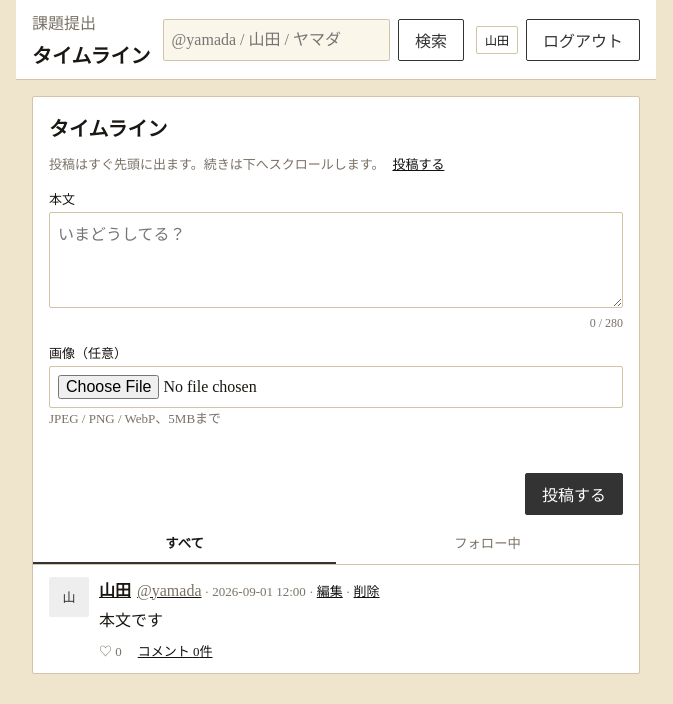
Test: TimelinePage › shows the following-tab empty state from the API
Expected: the text "本文です" is shown, [99,612,163,629]
Click the button "フォロー中" at (488, 543), box [336,523,639,564]
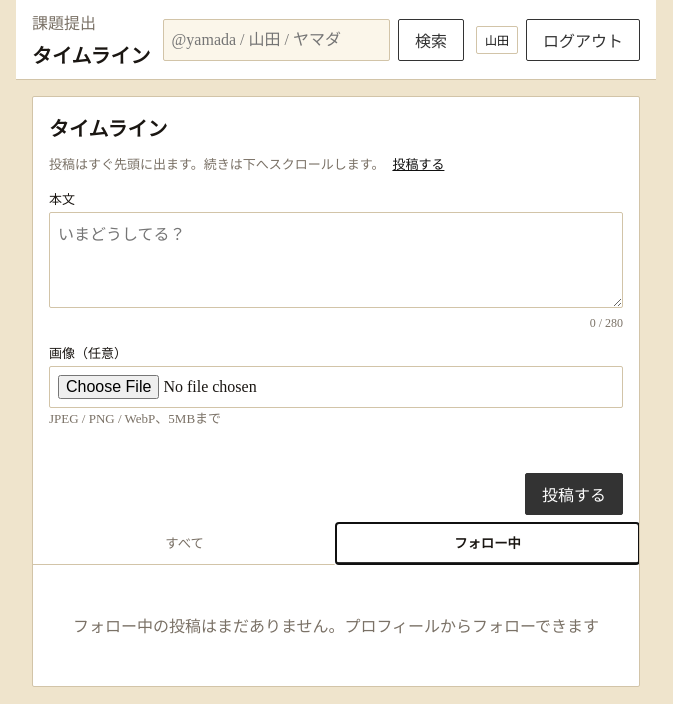
Expected: the text "フォロー中の投稿はまだありません。プロフィールからフォローできます" is shown, [73,618,599,635]
